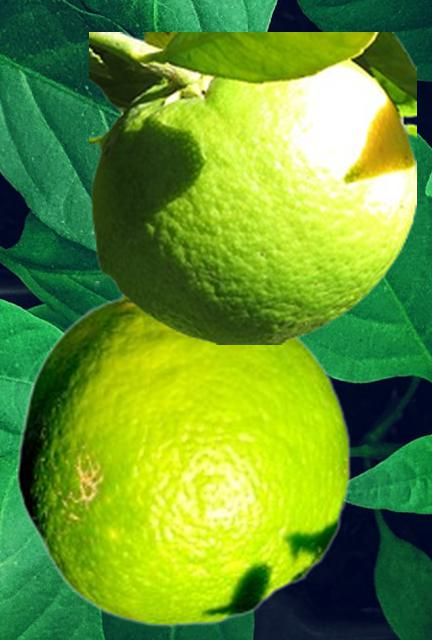dalandan: (16, 281, 350, 626), (89, 32, 415, 343)
